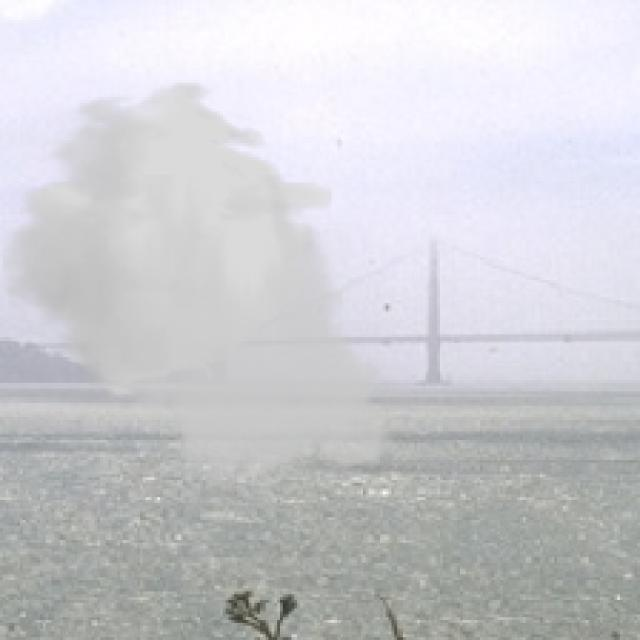smoke: (3, 80, 408, 494)
